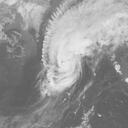cyclone: (43, 44, 80, 93)
